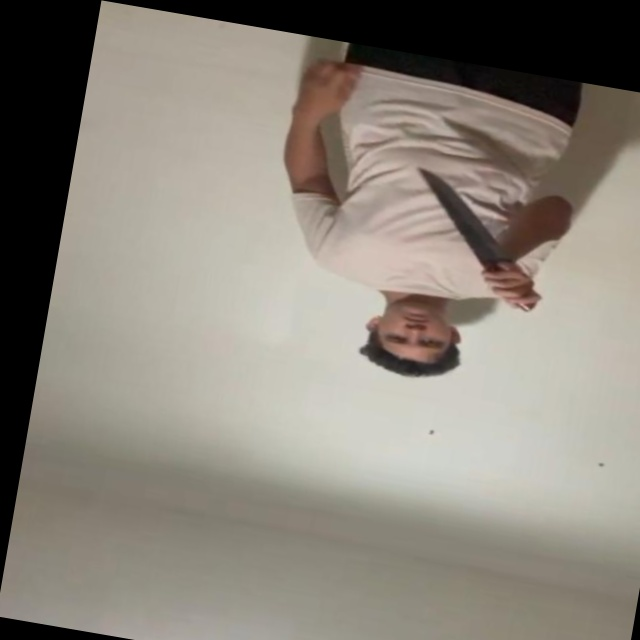Sharp-Object: (408, 172, 517, 266)
